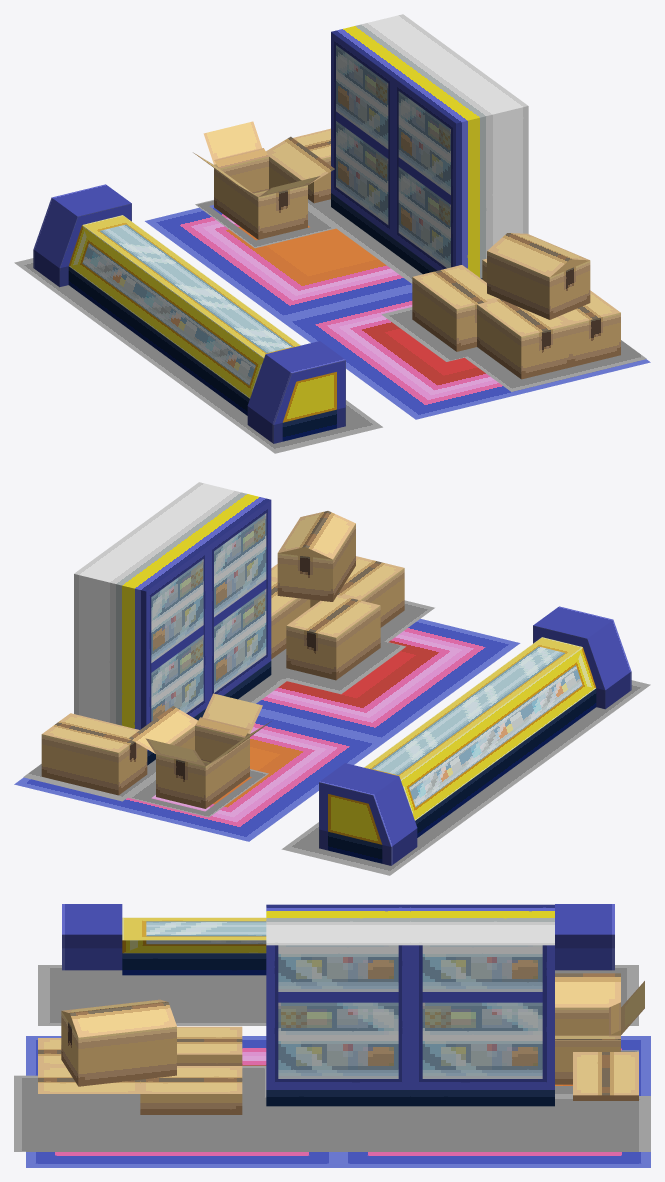
The picture shows the model from 3 angles, top to bottom: view 1: azimuth 30°, elevation 25°; view 2: azimuth 150°, elevation 25°; view 3: azimuth 270°, elevation 25°; orthographic projection. The views are drawn at different scales.
Parts seen in each view (by area): view 1: polygon0, polygon1; view 2: polygon0, polygon1; view 3: polygon0, polygon1.
Part boxes in pixels (<box>): polygon0: <box>33,14,650,443</box>; polygon1: <box>14,199,646,453</box>; polygon0: <box>14,482,631,865</box>; polygon1: <box>23,600,650,875</box>; polygon0: <box>26,904,650,1167</box>; polygon1: <box>14,965,650,1151</box>.
Bounding box in the file's own units: 10.25 × 5 × 13.25.
Materials: 2 (2 with a texture image).
